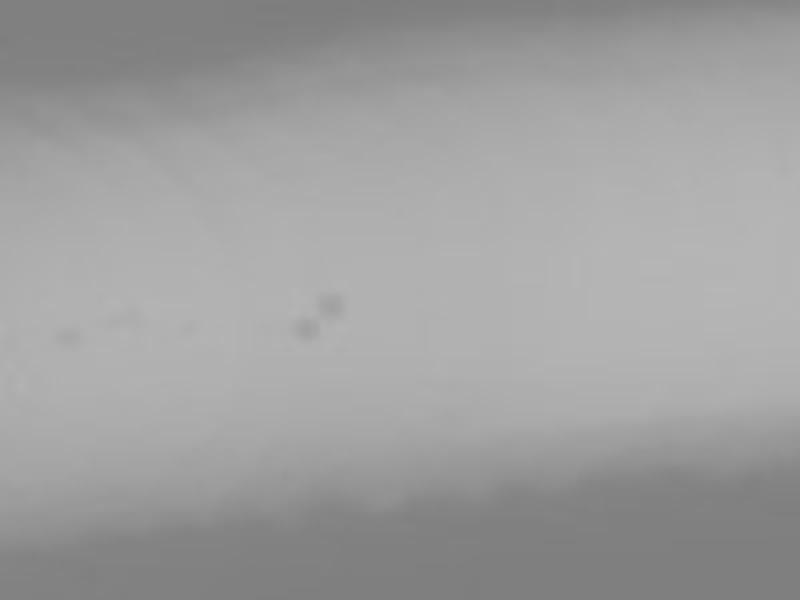defect: (315, 290, 347, 319), (291, 314, 319, 339), (51, 327, 84, 348), (178, 318, 198, 334)
